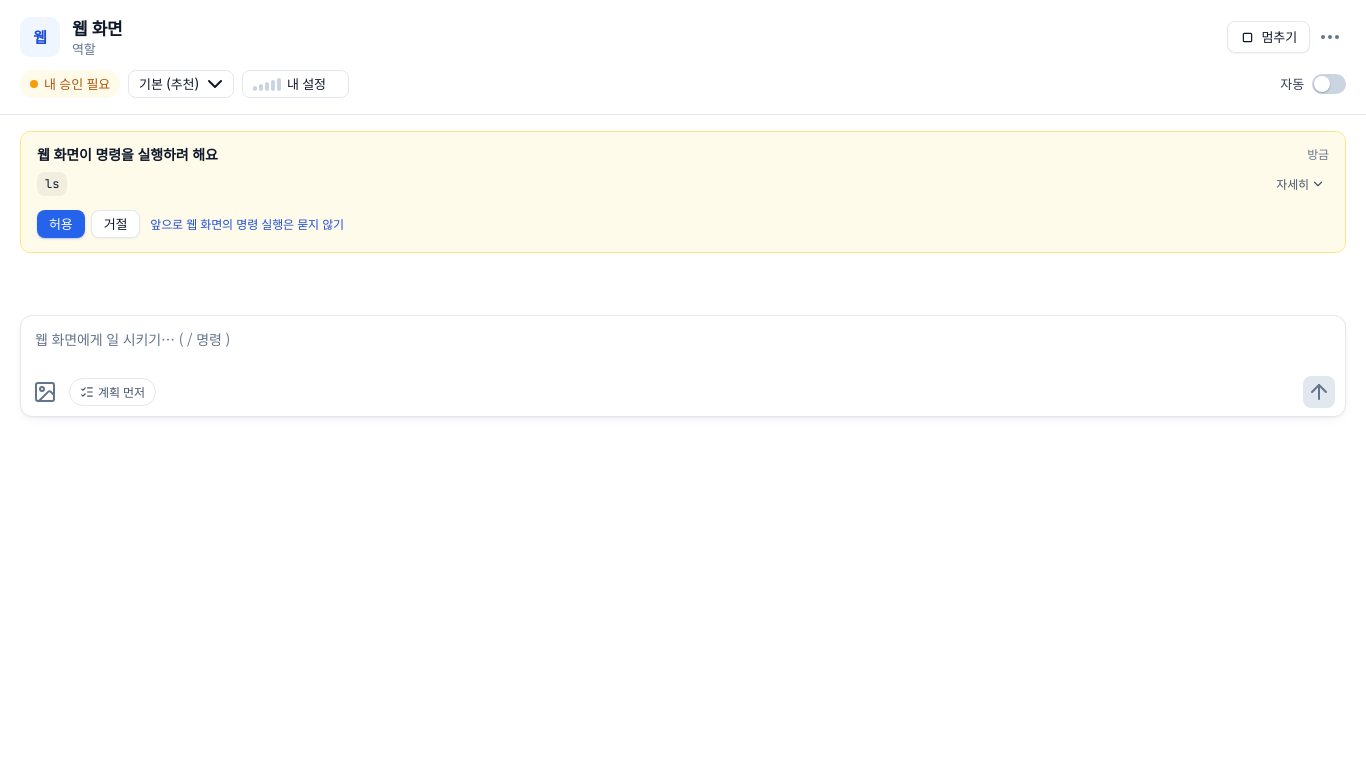
Test case: AlwaysAllowDialog › 승인 카드의 '앞으로 … 묻지 않기' 를 누르면 메뉴의 수와 대화상자가 바로 바뀐다 — 스냅샷을 다시 받지 않는다
Click the button named "메뉴" at (1330, 37), box [1314, 21, 1346, 53]
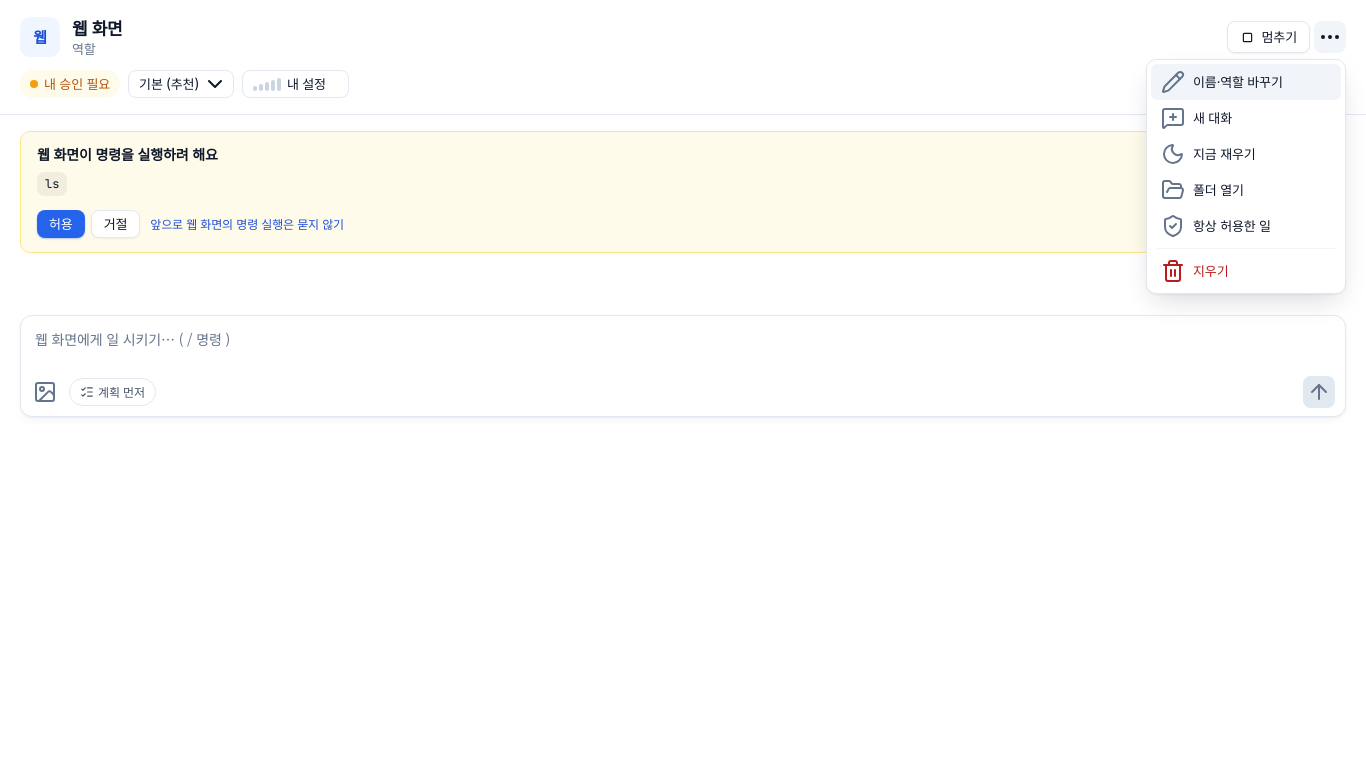
Click the button named "메뉴" at (1330, 37), box [1314, 21, 1346, 53]
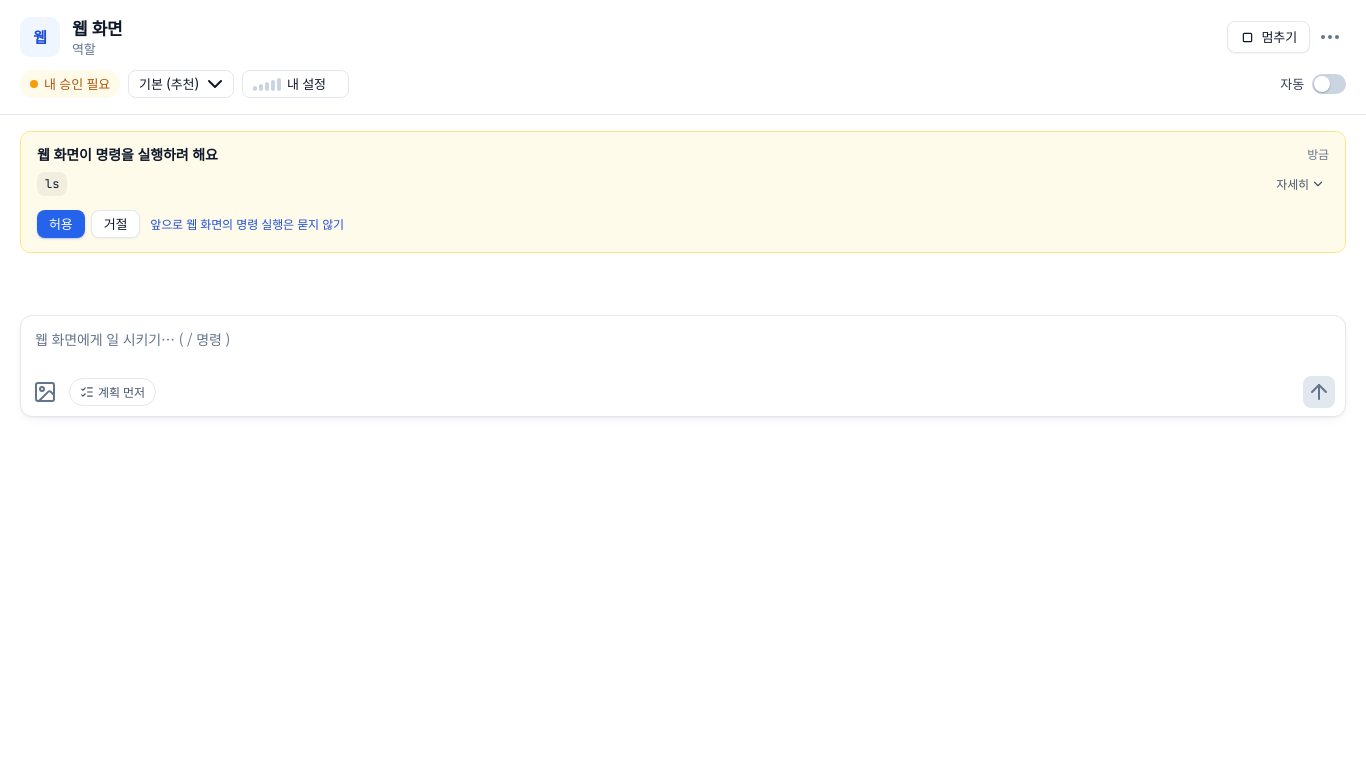
Click the button "앞으로 웹 화면의 명령 실행은 묻지 않기" at (247, 224), box [146, 210, 348, 238]
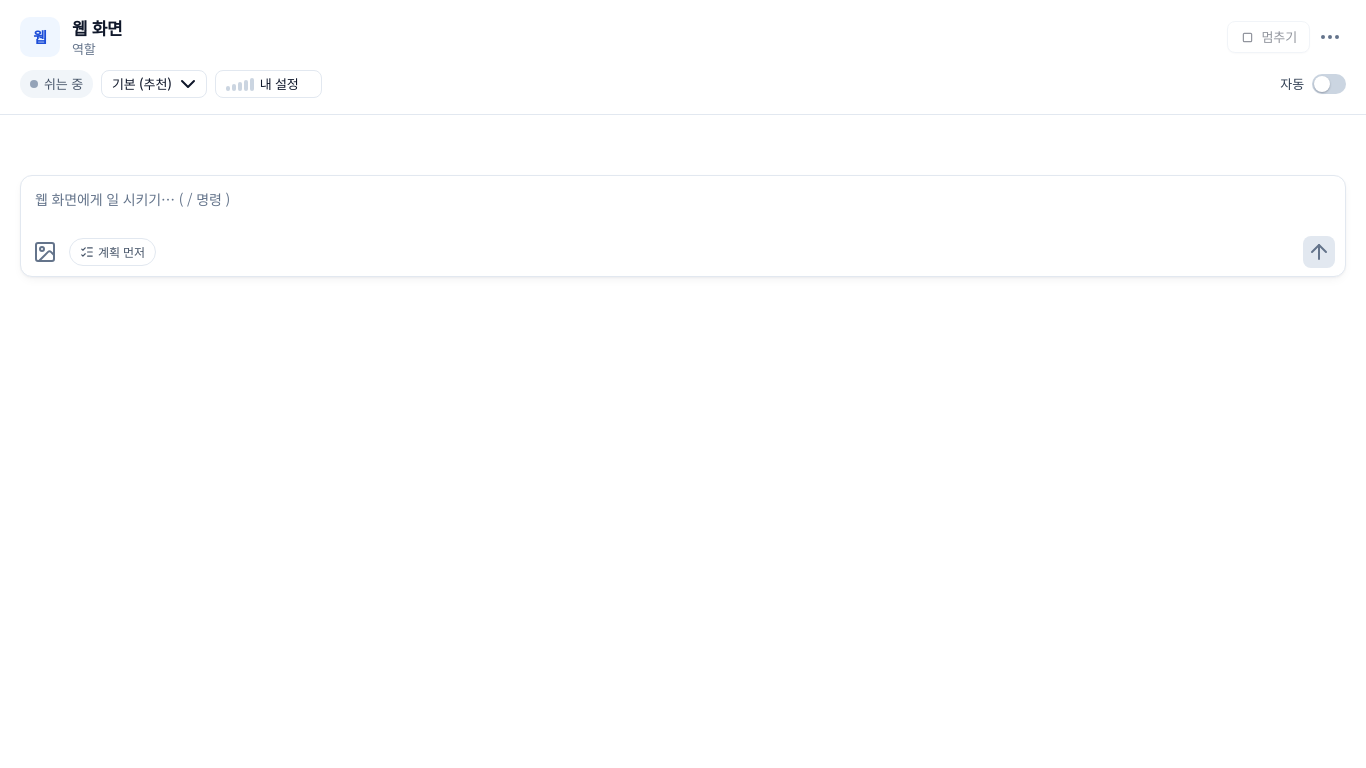
Click the button named "메뉴" at (1330, 37), box [1314, 21, 1346, 53]
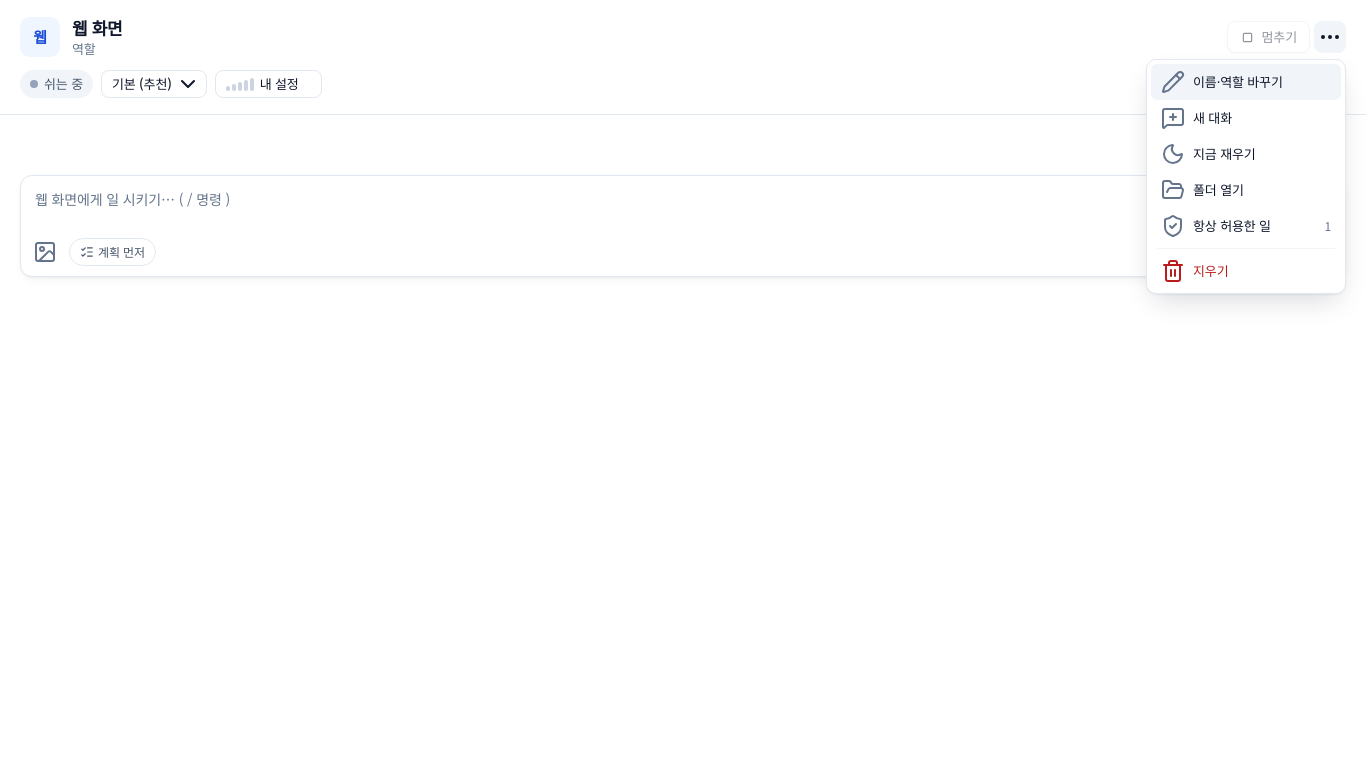
Now the menu item "항상 허용한 일 1" is shown
Click the menu item "항상 허용한 일 1" at (1246, 226), box [1151, 208, 1341, 244]
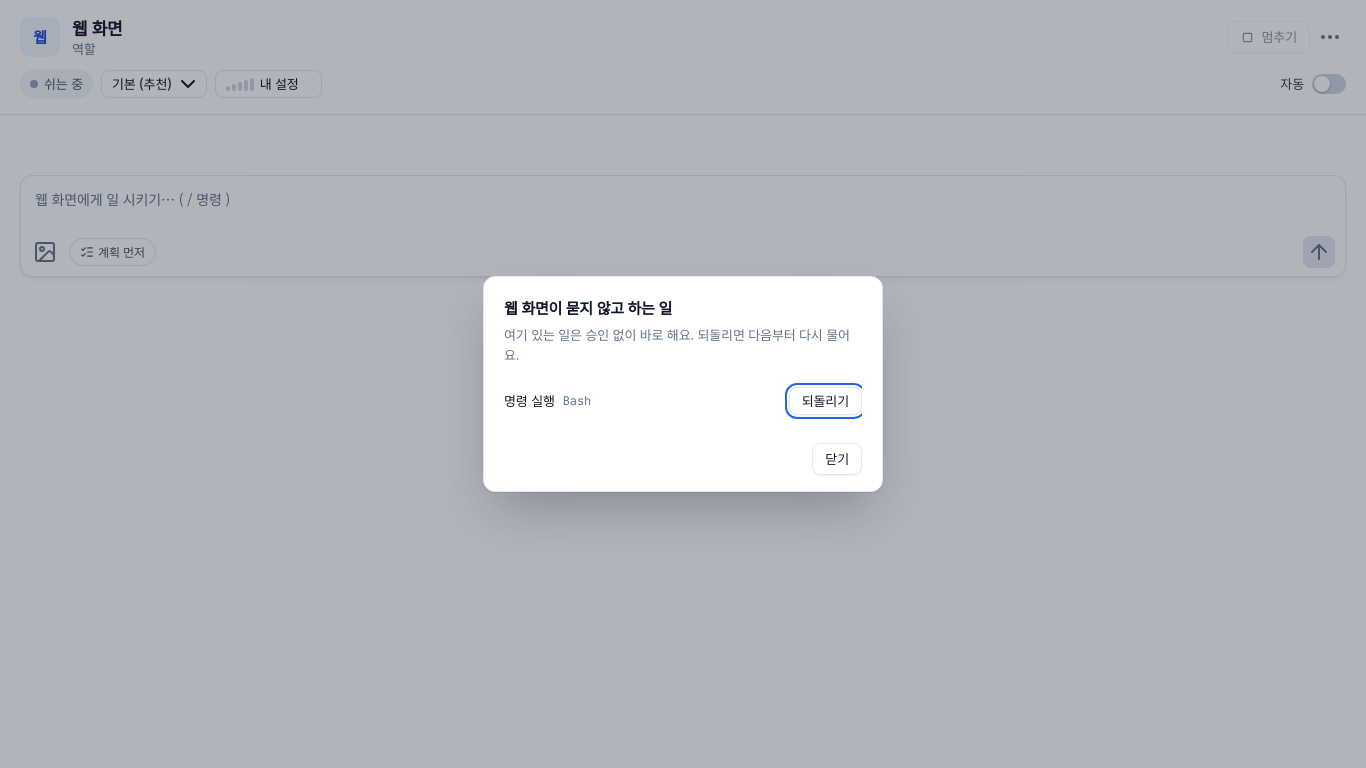
Now the text "Bash" is shown, box [563, 393, 591, 409]
